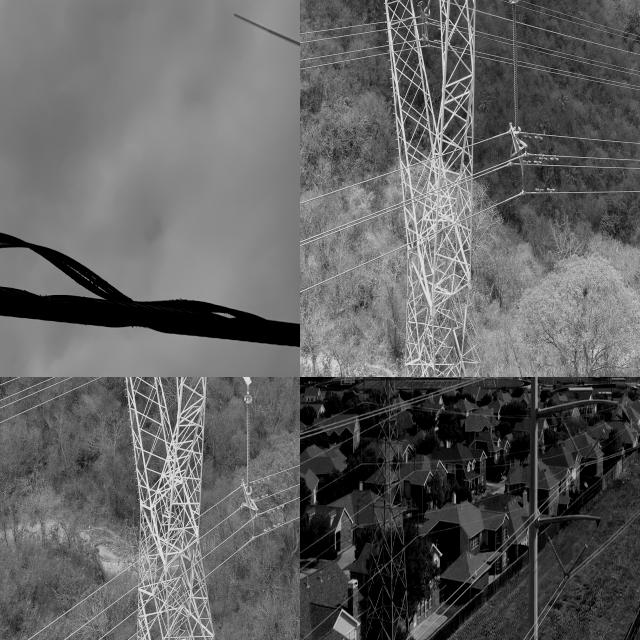杆塔: (356, 0, 524, 377), (82, 377, 261, 640), (361, 377, 421, 640)
正常绝缘子: (506, 0, 524, 153), (241, 380, 256, 510), (576, 420, 610, 472), (558, 412, 587, 470), (543, 528, 572, 583), (562, 536, 593, 584)
电缆破损: (0, 219, 251, 351)
